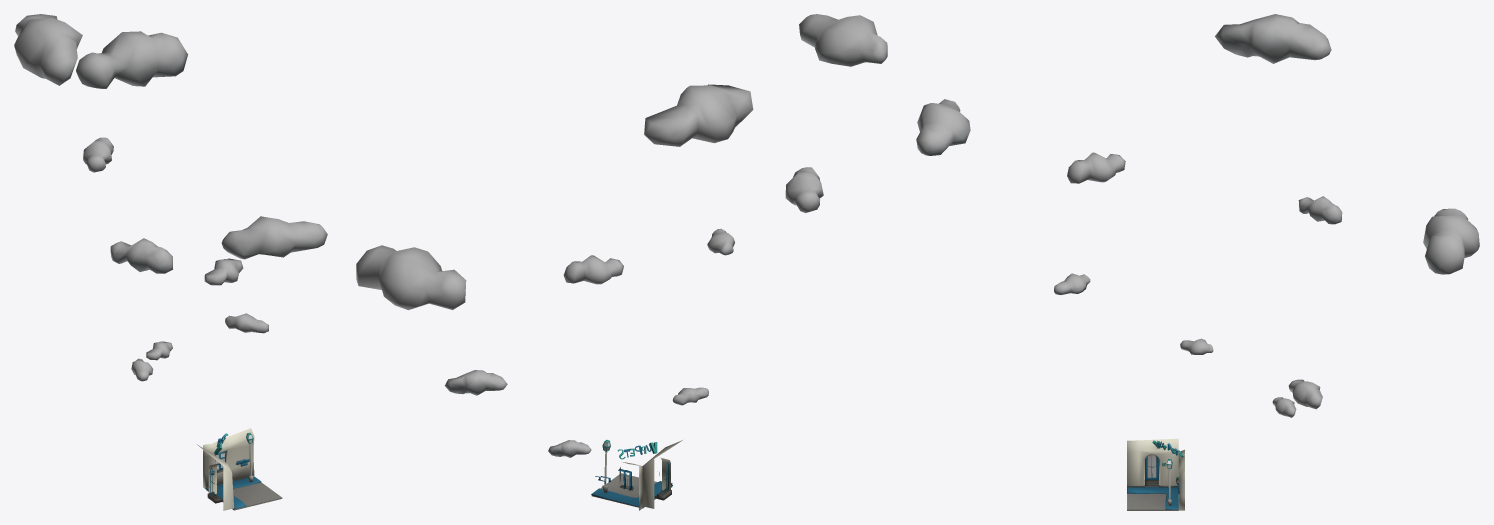
Rendered from street.gltf.
3 renders of one model, left to right at view 1: azimuth 30°, elevation 25°; view 2: azimuth 150°, elevation 25°; view 3: azimuth 270°, elevation 25°, orthographic. The views are drawn at different scales.
Parts seen in each view (by area): view 1: cloud_group, street; view 2: cloud_group, street; view 3: cloud_group, street.
Part boxes in pixels (<box>): cloud_group: <box>14,14,327,381</box>; street: <box>197,428,282,510</box>; cloud_group: <box>356,14,887,457</box>; street: <box>591,440,682,510</box>; cloud_group: <box>916,14,1479,417</box>; street: <box>1127,438,1184,510</box>.
Bounding box in the file's own units: 16.03 × 27.14 × 32.71.
Materials: 2 (2 with a texture image).
